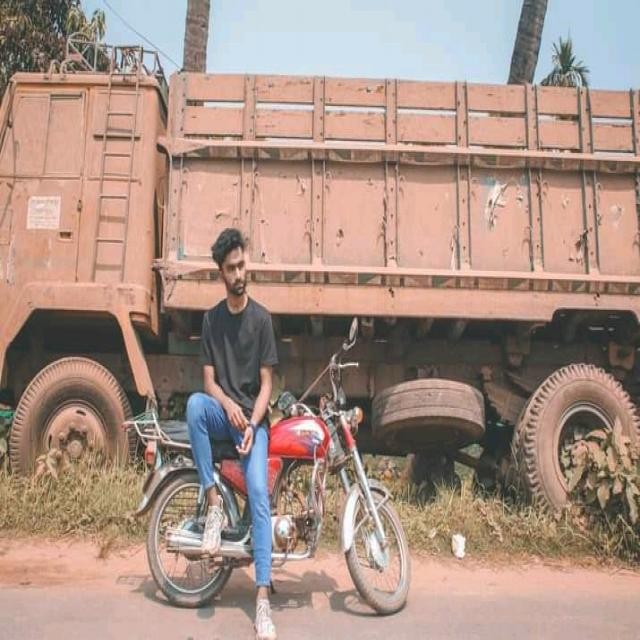Not Wearing Helmet: (186, 171, 286, 334)
